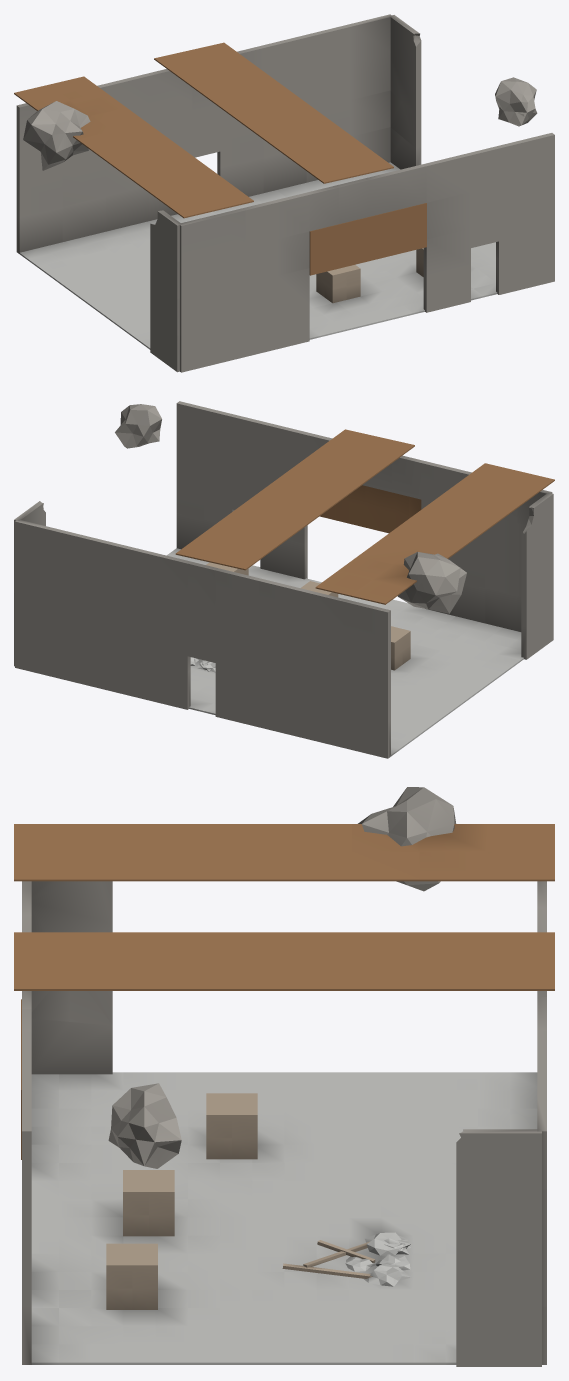
File: galpao_r2.glb
The picture shows the model from 3 angles, top to bottom: view 1: azimuth 30°, elevation 25°; view 2: azimuth 150°, elevation 25°; view 3: azimuth 270°, elevation 25°; orthographic projection. The views are drawn at different scales.
Visible parts, largest first — view 1: ext, longe, dentro, detalhe; view 2: ext, longe, dentro, detalhe; view 3: dentro, longe, ext, detalhe.
Part boxes in pixels (x1,y1,x2,y2): ext: (16,14,554,372); longe: (14,42,426,275); dentro: (19,162,497,349); detalhe: (316,248,423,303); ext: (14,401,553,758); longe: (175,429,554,604); dentro: (167,548,523,757); detalhe: (190,562,410,672); dentro: (28,1072,537,1364); longe: (14,824,554,1159); ext: (22,787,546,1366); detalhe: (106,1093,411,1309).
Size of what is drawn, in the model's own units: 18.24 by 7.38 by 12.6.
